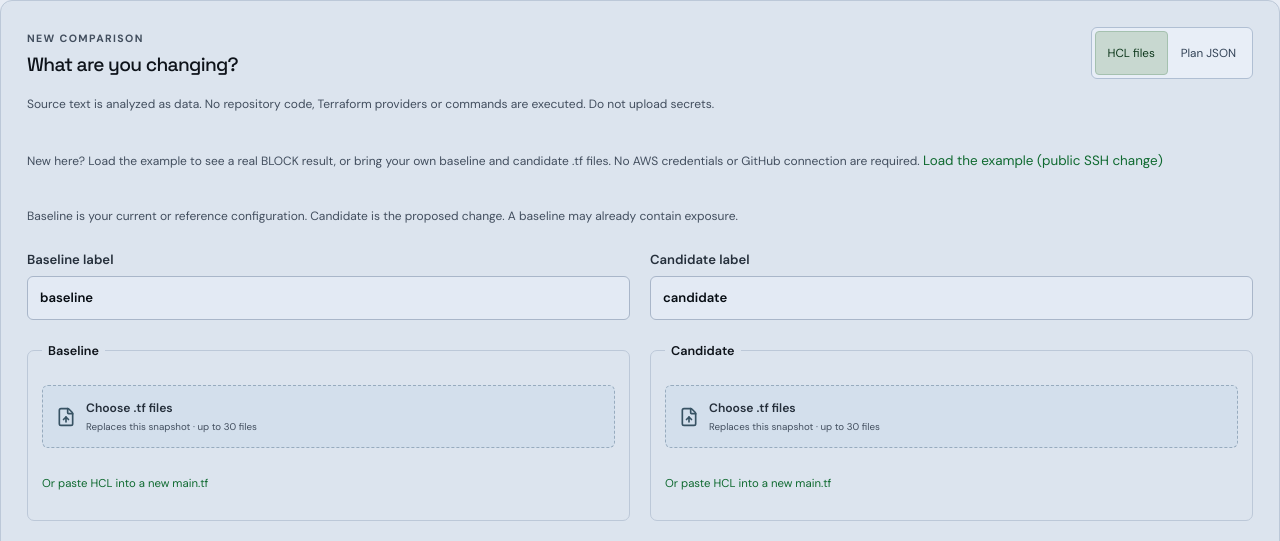
Test: AnalysisForm public example loader › loads the public SSH fixture into both editors without submitting
Click the button "Load the example (public SSH change)".
click(1043, 161)  # box top-left (923, 139), bottom-right (1163, 183)
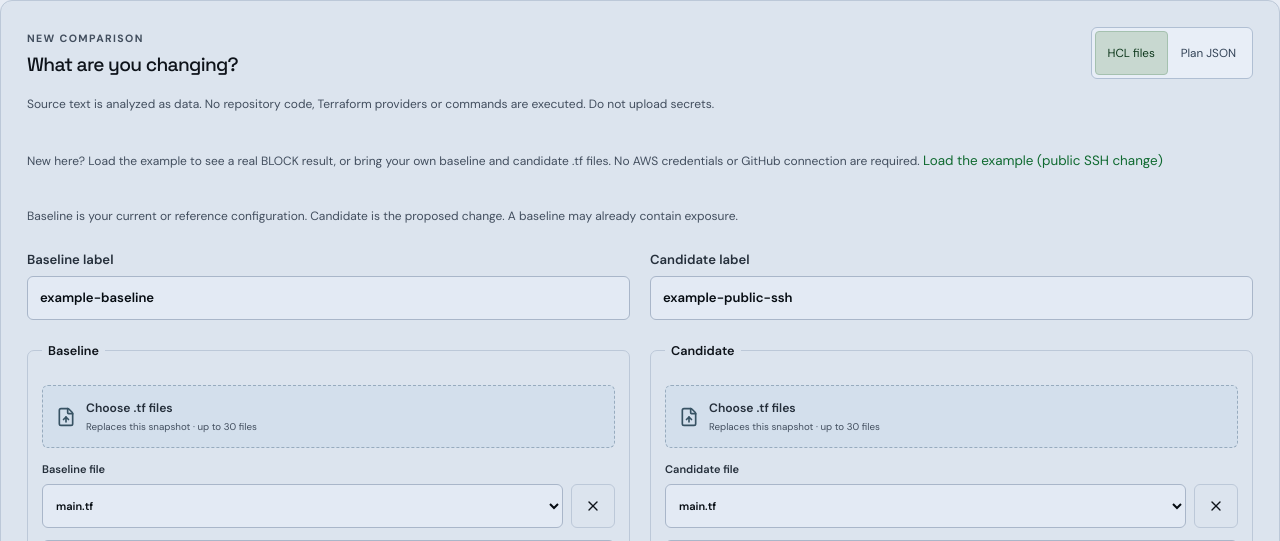
Now the field labelled "Baseline label" holds "example-baseline", box top-left (27, 276), bottom-right (630, 320)
Now the field labelled "Candidate label" holds "example-public-ssh", box top-left (650, 276), bottom-right (1253, 320)
